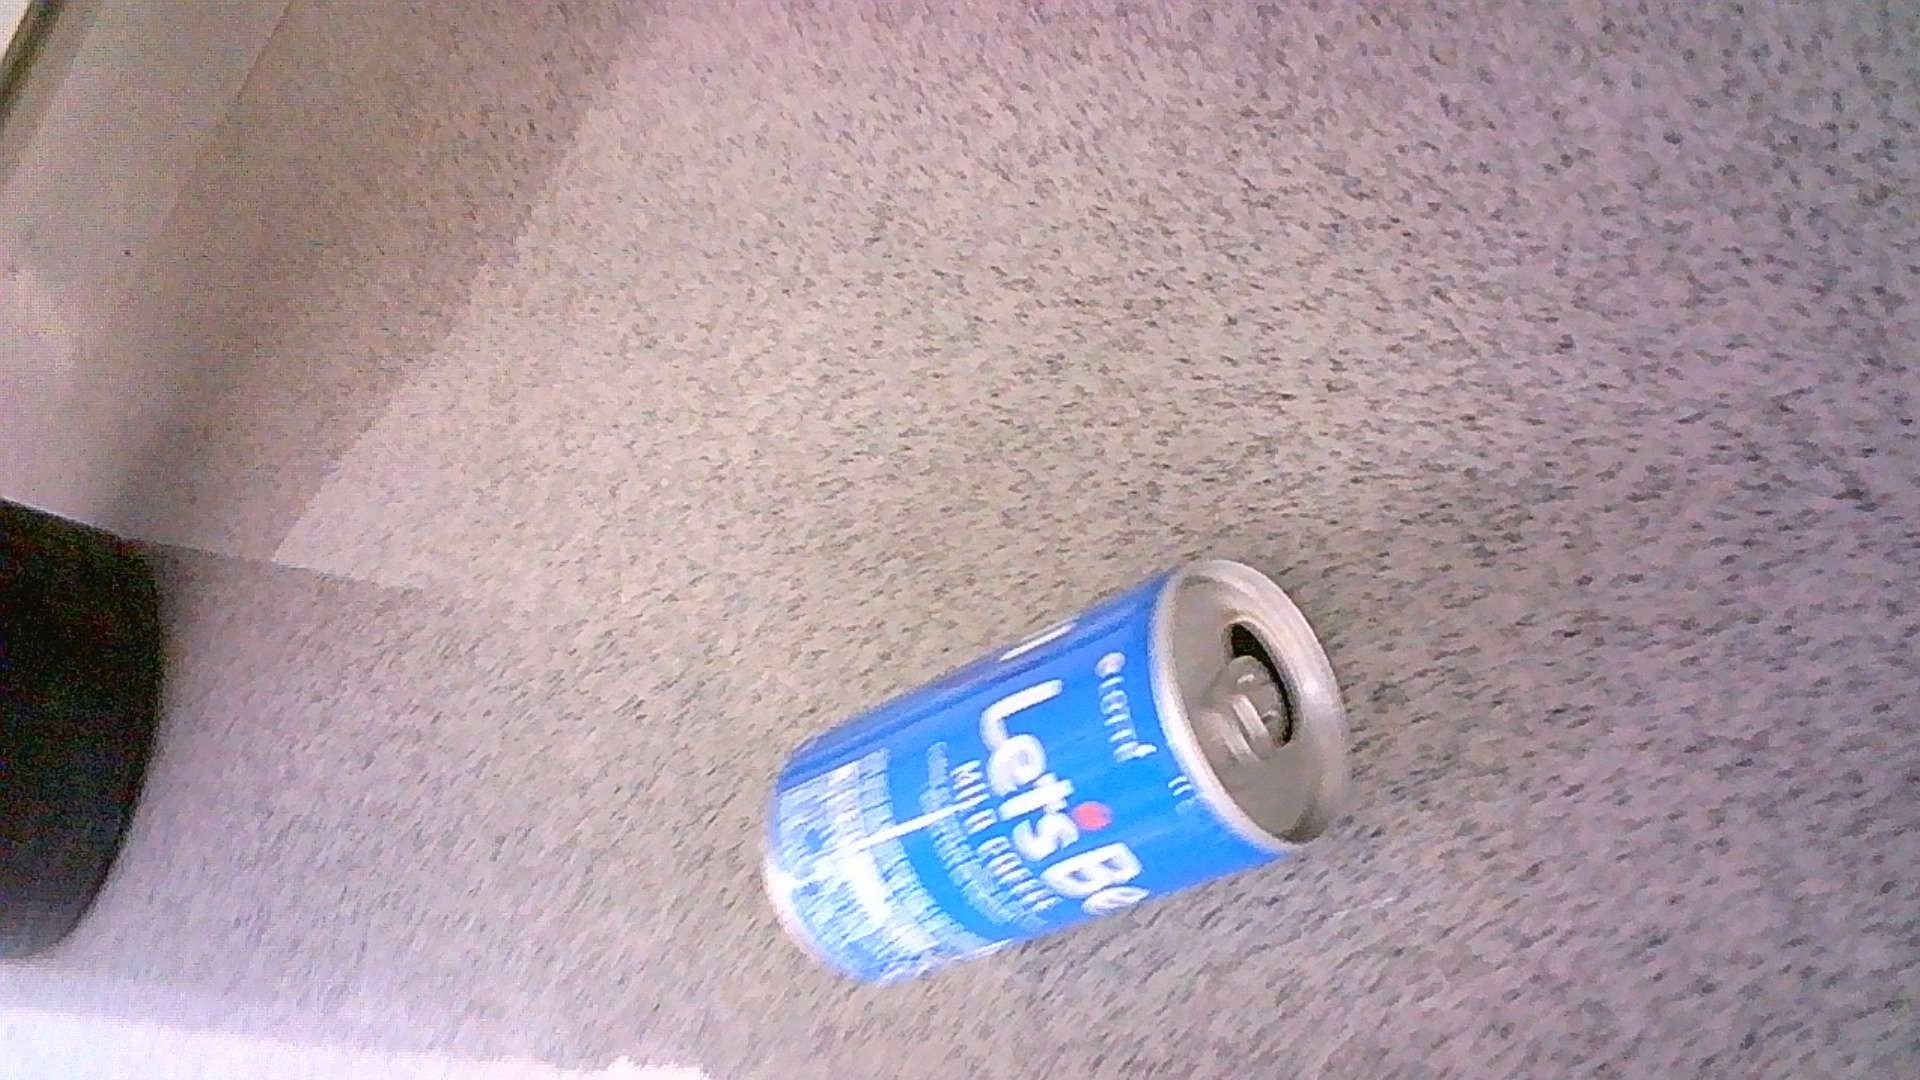letsbe: (758, 554, 1350, 985)
